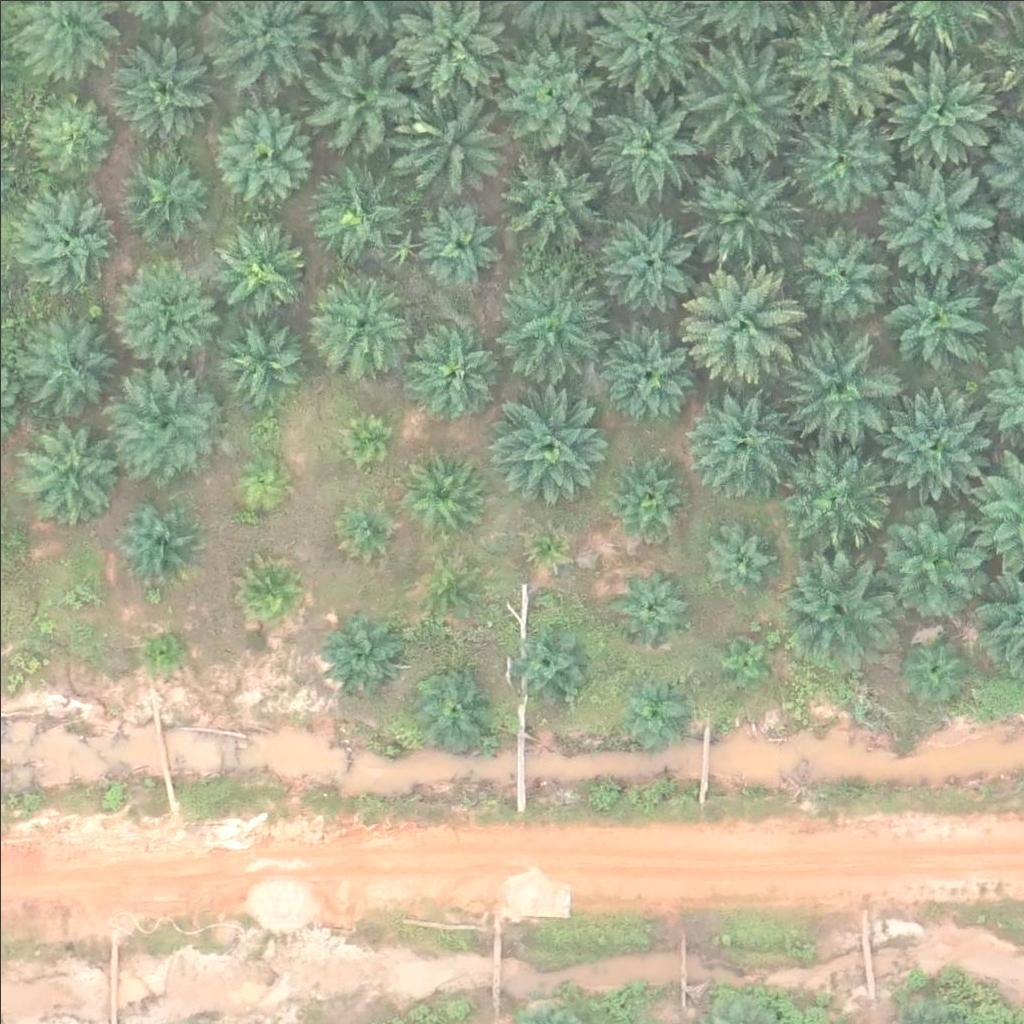Kelapa_Sawit: (490, 391, 603, 505), (599, 86, 712, 200), (689, 266, 802, 380), (878, 386, 991, 500), (308, 38, 421, 151), (776, 432, 889, 545), (784, 549, 897, 662), (787, 95, 900, 208), (878, 504, 991, 617), (111, 368, 223, 482), (786, 326, 898, 440), (884, 165, 996, 279), (499, 37, 611, 150), (491, 258, 603, 371), (692, 44, 804, 157), (687, 152, 799, 265), (681, 384, 793, 497), (876, 265, 988, 378), (880, 60, 992, 173), (16, 413, 116, 514), (115, 39, 215, 140), (118, 256, 218, 357), (212, 107, 312, 208), (403, 87, 503, 188), (595, 323, 695, 424), (15, 307, 115, 407), (22, 187, 122, 287), (211, 219, 311, 319), (310, 162, 410, 262), (314, 270, 414, 370), (403, 322, 503, 422), (506, 154, 606, 254), (599, 209, 699, 309), (789, 229, 889, 329), (115, 497, 203, 585), (122, 150, 210, 238), (217, 316, 305, 404), (509, 620, 597, 708), (414, 197, 502, 285), (603, 453, 691, 541), (26, 88, 113, 176), (409, 664, 496, 752), (400, 449, 487, 537), (325, 608, 400, 684), (616, 566, 691, 642), (626, 682, 689, 745), (904, 634, 967, 697), (237, 561, 300, 624), (706, 527, 768, 590), (415, 555, 477, 618), (240, 454, 290, 505), (338, 412, 388, 462), (343, 504, 393, 554), (716, 635, 766, 685), (147, 632, 184, 670), (532, 532, 569, 569), (70, 581, 95, 607)
